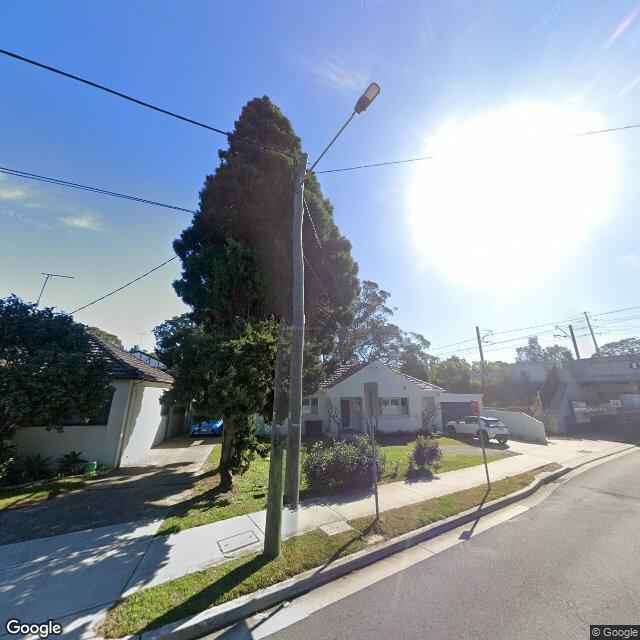HV-transmission: (580, 311, 602, 336)
streetlight: (299, 82, 382, 186)
timber-pole: (263, 153, 309, 560), (585, 312, 600, 358), (568, 325, 581, 359), (476, 326, 484, 361)
